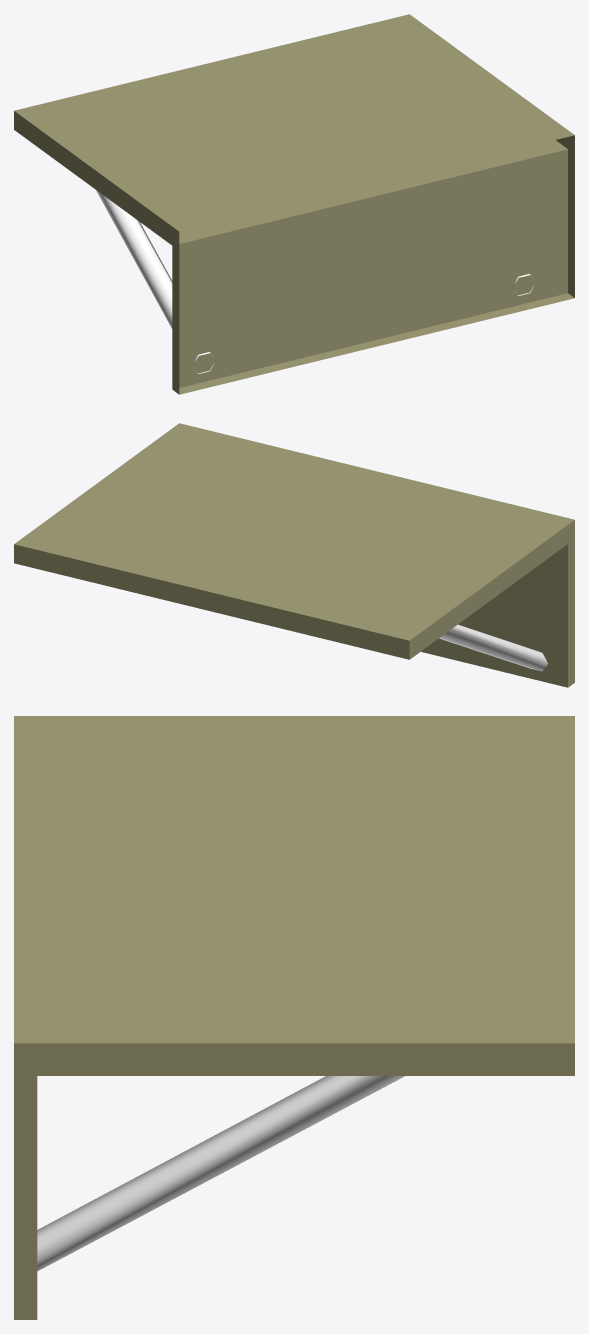
File: SM_Shelf_01.fbx
3 views of the same model, one above another, from view 1: azimuth 30°, elevation 25°; view 2: azimuth 150°, elevation 25°; view 3: azimuth 270°, elevation 25° (orthographic). The views are drawn at different scales.
Parts seen in each view (by area): view 1: SM_Shelf_01; view 2: SM_Shelf_01; view 3: SM_Shelf_01.
Boxes of the visible parts, bbox=[...] form: SM_Shelf_01: bbox=[14, 14, 574, 394]; SM_Shelf_01: bbox=[14, 423, 574, 687]; SM_Shelf_01: bbox=[14, 716, 574, 1319].
Size of the model in its own units: 103 by 40.54 by 74.56.
Materials: 1 (1 with a texture image).
